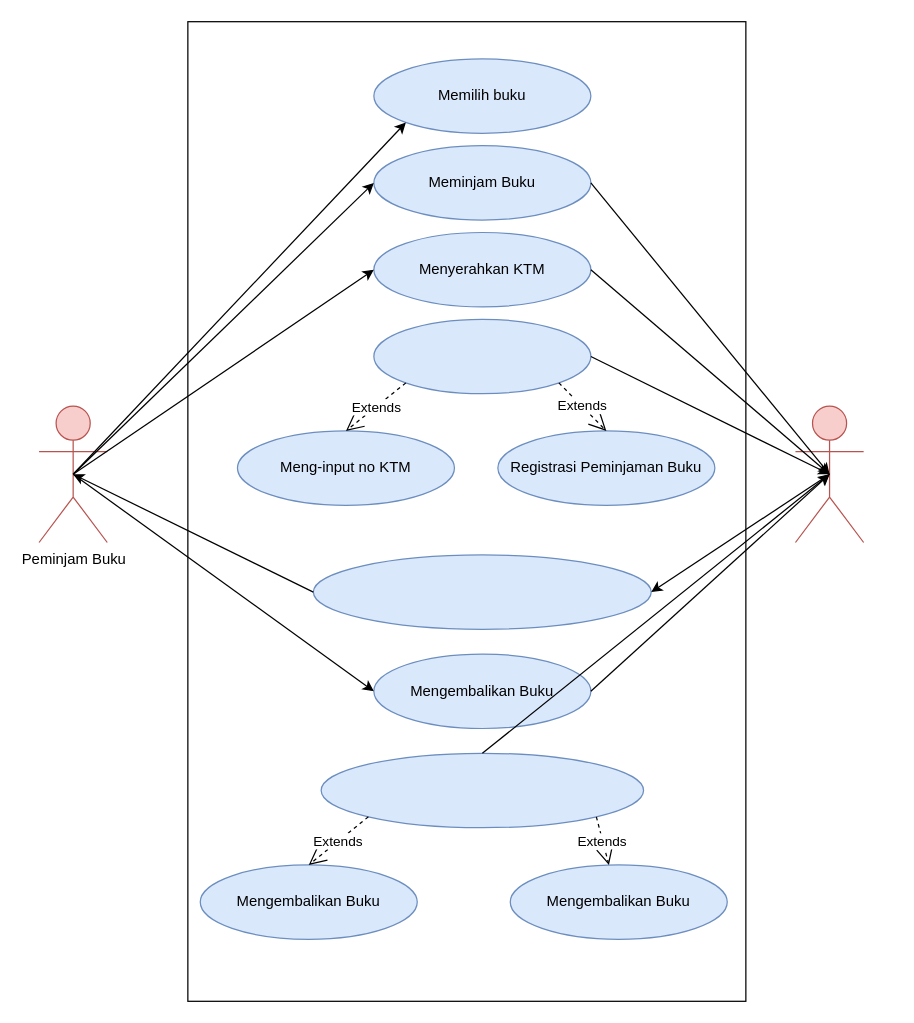
Some shapes in this 914 by 1023 pixel diagram are drawn without their labels. The shapes that lost their labels are listed below. From the top down, each one's box as (x1, y1, x2, y2) in pixels, then its label:
(373, 318, 591, 394): Pendataan Peminjaman
(794, 405, 864, 542): Staff Perpustakaan
(312, 554, 651, 629): Menentukan Batas waktu peminjaman
(320, 752, 644, 828): Pendataan Pengembalian Buku
